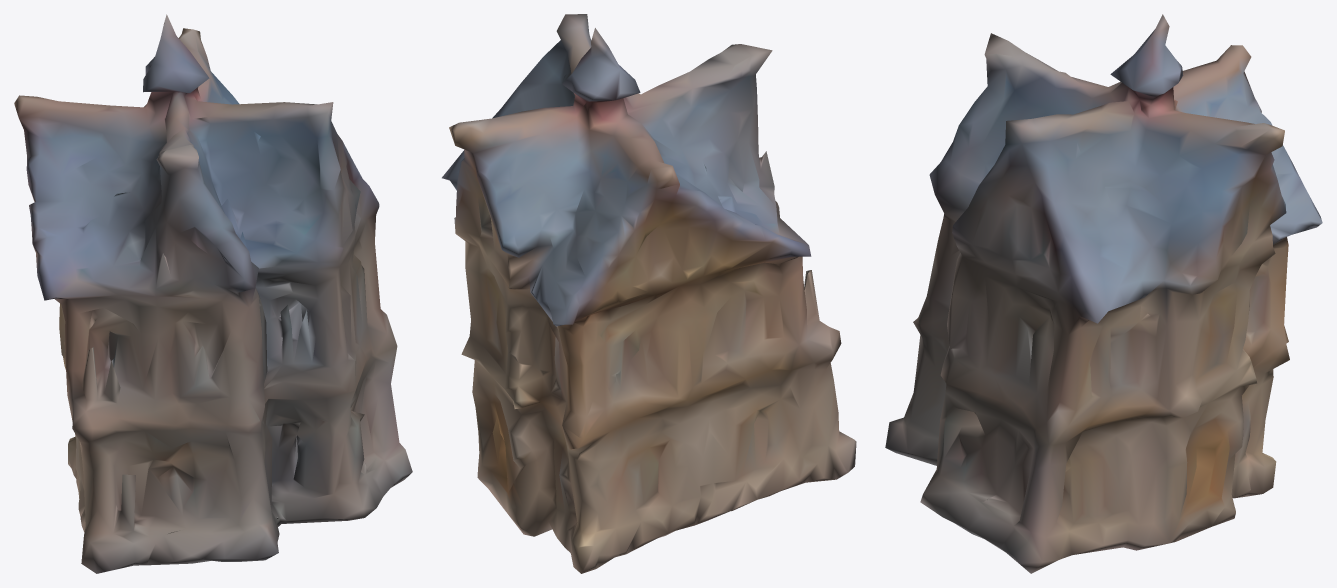
Rendered from casa_nobre.glb.
The picture shows the model from 3 angles, left to right: view 1: azimuth 30°, elevation 25°; view 2: azimuth 150°, elevation 25°; view 3: azimuth 270°, elevation 25°; orthographic projection. The views are drawn at different scales.
Bounding box in the file's own units: 0.7158 × 0.9534 × 0.7616.
